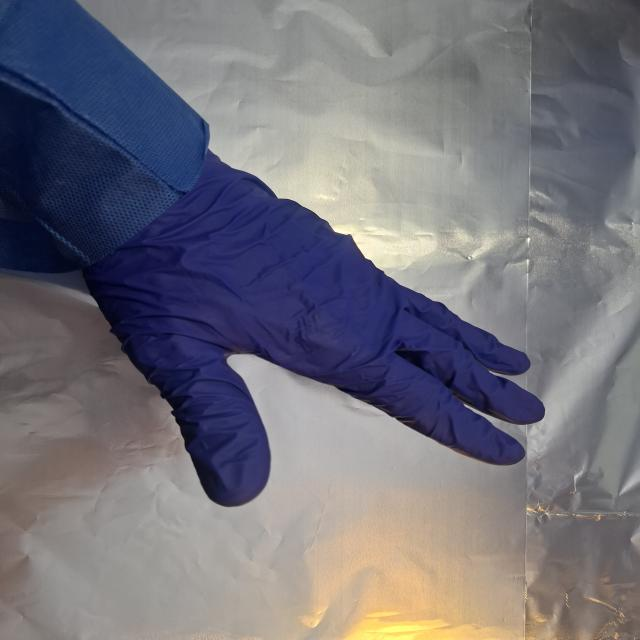glove_on: (76, 156, 550, 511)
